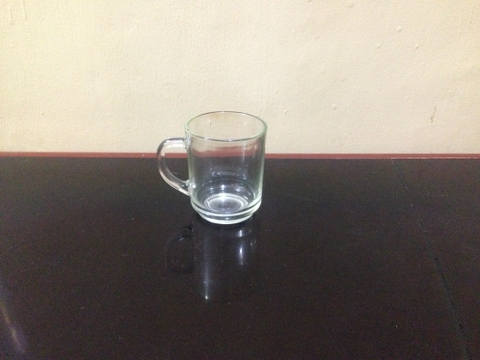tempat minum: (156, 110, 268, 225)
